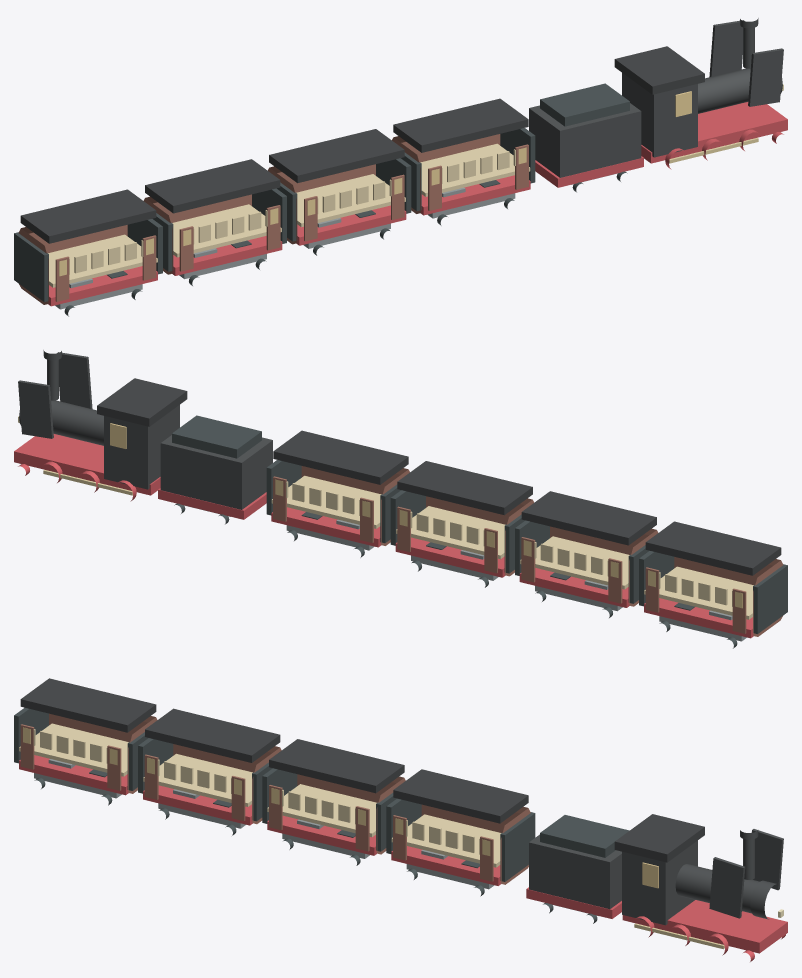
3 views of the same model, one above another, from view 1: azimuth 30°, elevation 25°; view 2: azimuth 150°, elevation 25°; view 3: azimuth 330°, elevation 25° (orthographic).
Visible parts, largest first — view 1: br01_car_1_coal_tender, br01_car_5_roof, br01_car_3_roof, br01_car_2_roof, br01_car_4_roof, cab, red_chassis, cab_roof, br01_car_1_coal_load, br01_car_3_cream_waistline, br01_car_4_cream_waistline, br01_car_5_cream_waistline (+23 smaller); view 2: br01_car_1_coal_tender, br01_car_5_roof, br01_car_3_roof, br01_car_2_roof, br01_car_4_roof, cab, red_chassis, cab_roof, br01_car_1_coal_load, br01_car_3_cream_waistline, br01_car_4_cream_waistline, br01_car_5_cream_waistline (+23 smaller); view 3: br01_car_1_coal_tender, br01_car_5_roof, br01_car_3_roof, br01_car_2_roof, br01_car_4_roof, red_chassis, cab, cab_roof, br01_car_1_coal_load, br01_car_2_cream_waistline, br01_car_5_cream_waistline, br01_car_3_cream_waistline (+28 smaller).
Part boxes in pixels (box(x1,y1,x2,y2)): br01_car_1_coal_tender: box(529, 103, 641, 177); br01_car_5_roof: box(20, 189, 156, 243); br01_car_3_roof: box(269, 129, 404, 183); br01_car_2_roof: box(393, 98, 528, 152); br01_car_4_roof: box(145, 159, 280, 213); cab: box(622, 73, 697, 157); red_chassis: box(641, 102, 787, 163); cab_roof: box(614, 46, 704, 94); br01_car_1_coal_load: box(540, 83, 629, 126); br01_car_3_cream_waistline: box(296, 174, 405, 227); br01_car_4_cream_waistline: box(172, 204, 281, 257); br01_car_5_cream_waistline: box(48, 234, 157, 287); br01_car_1_coal_tender: box(160, 435, 272, 509); br01_car_5_roof: box(645, 521, 781, 575); br01_car_3_roof: box(397, 461, 532, 515); br01_car_2_roof: box(273, 430, 408, 484); br01_car_4_roof: box(521, 491, 656, 545); cab: box(104, 405, 179, 489); red_chassis: box(14, 434, 160, 495); cab_roof: box(97, 378, 187, 426); br01_car_1_coal_load: box(172, 415, 261, 458); br01_car_3_cream_waistline: box(396, 506, 505, 559); br01_car_4_cream_waistline: box(520, 536, 629, 589); br01_car_5_cream_waistline: box(644, 566, 753, 619); br01_car_1_coal_tender: box(529, 834, 621, 909); br01_car_5_roof: box(20, 678, 156, 732); br01_car_3_roof: box(269, 739, 404, 793); br01_car_2_roof: box(393, 769, 528, 823); br01_car_4_roof: box(145, 708, 280, 762); red_chassis: box(622, 900, 787, 953); cab: box(622, 840, 697, 925); cab_roof: box(614, 814, 704, 862); br01_car_1_coal_load: box(540, 815, 629, 857); br01_car_2_cream_waistline: box(391, 814, 501, 867); br01_car_5_cream_waistline: box(19, 723, 128, 776); br01_car_3_cream_waistline: box(267, 784, 376, 837).
Size of the model in its own units: 9.46 by 1.42 by 0.88.
